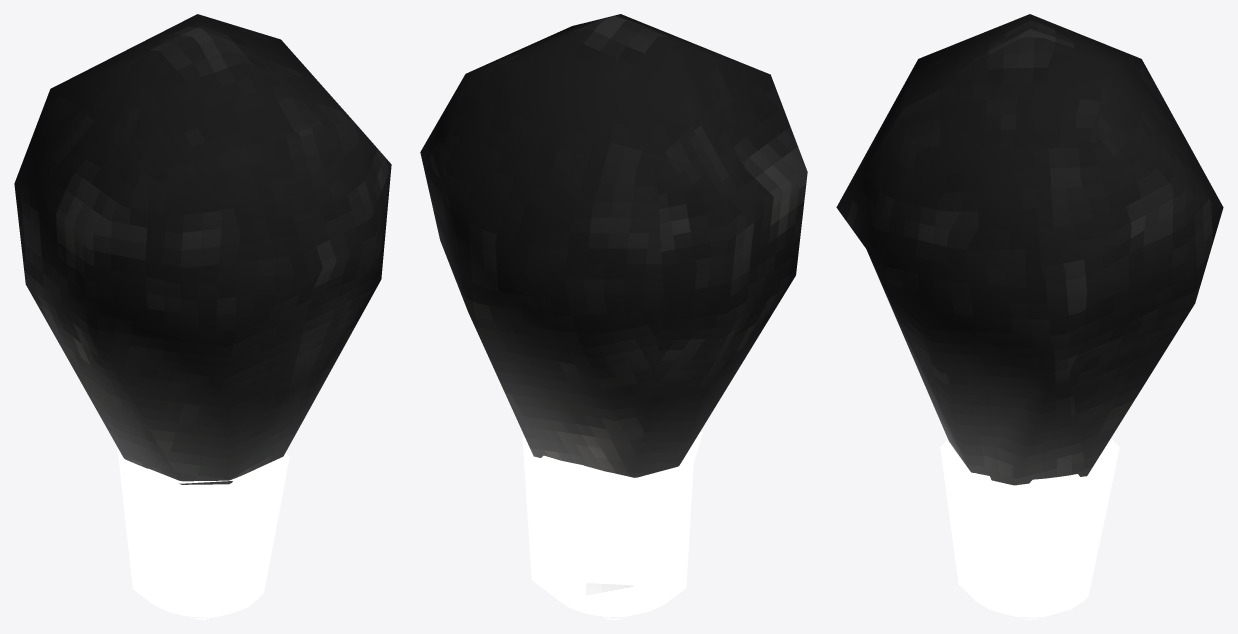
Rendered from bulb.glb.
3 renders of one model, left to right at view 1: azimuth 30°, elevation 25°; view 2: azimuth 150°, elevation 25°; view 3: azimuth 270°, elevation 25°, orthographic. The views are drawn at different scales.
Parts seen in each view (by area): view 1: lightbulb_01; view 2: lightbulb_01; view 3: lightbulb_01.
Boxes of the visible parts, left/top/right/bottom form: lightbulb_01: left=14, top=14, right=391, bottom=619; lightbulb_01: left=420, top=14, right=807, bottom=619; lightbulb_01: left=836, top=14, right=1223, bottom=619.
Size of the model in its own units: 0.0571 by 0.1003 by 0.06.
2 materials, 2 textured.
